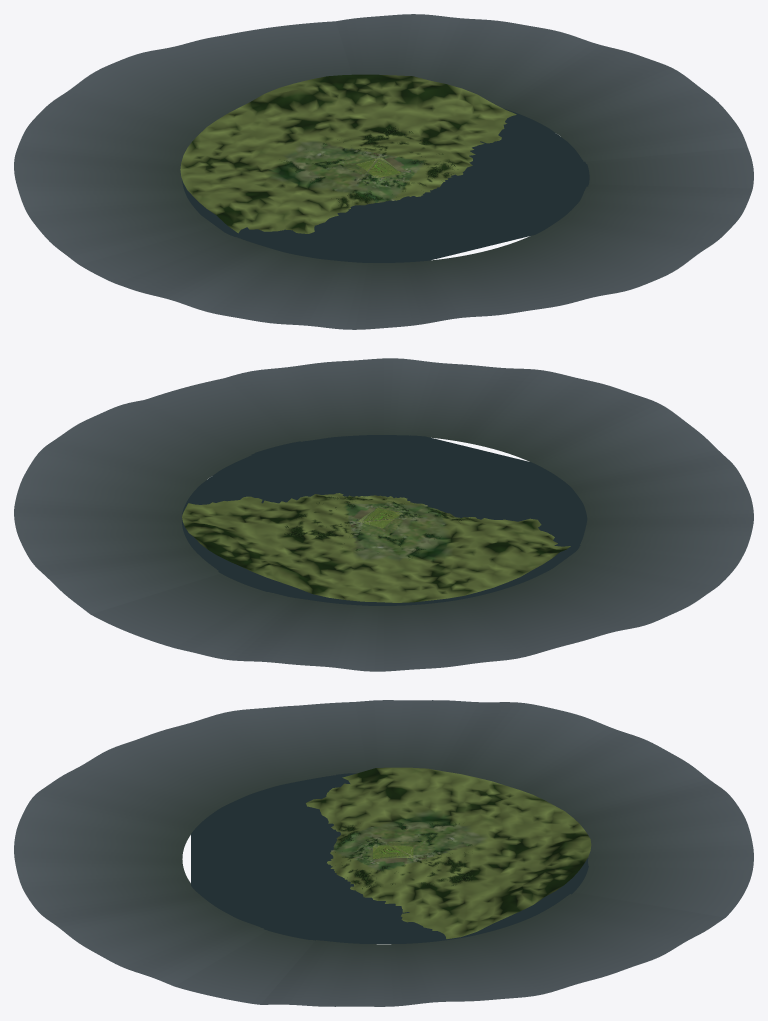
The model's file is byneset_south_09.glb.
3 views of the same model, one above another, from view 1: azimuth 30°, elevation 25°; view 2: azimuth 150°, elevation 25°; view 3: azimuth 270°, elevation 25° (orthographic).
Visible parts, largest first — view 1: FAR_Horizon, SURF_Far, WATER_Sea, FAR_Trees; view 2: FAR_Horizon, SURF_Far, WATER_Sea, FAR_Trees; view 3: FAR_Horizon, SURF_Far, WATER_Sea, FAR_Trees.
Part boxes in pixels (bbox=[...]): FAR_Horizon: bbox=[14, 14, 753, 329]; SURF_Far: bbox=[180, 74, 516, 233]; WATER_Sea: bbox=[182, 108, 589, 262]; FAR_Trees: bbox=[279, 126, 458, 207]; FAR_Horizon: bbox=[14, 358, 753, 671]; SURF_Far: bbox=[182, 493, 570, 602]; WATER_Sea: bbox=[182, 435, 587, 605]; FAR_Trees: bbox=[284, 496, 470, 558]; FAR_Horizon: bbox=[14, 700, 753, 1006]; SURF_Far: bbox=[306, 767, 591, 938]; WATER_Sea: bbox=[191, 773, 588, 943]; FAR_Trees: bbox=[335, 823, 472, 888].
Bounding box in the file's own units: 11200 × 288 × 11200.
32 materials, 18 textured.
